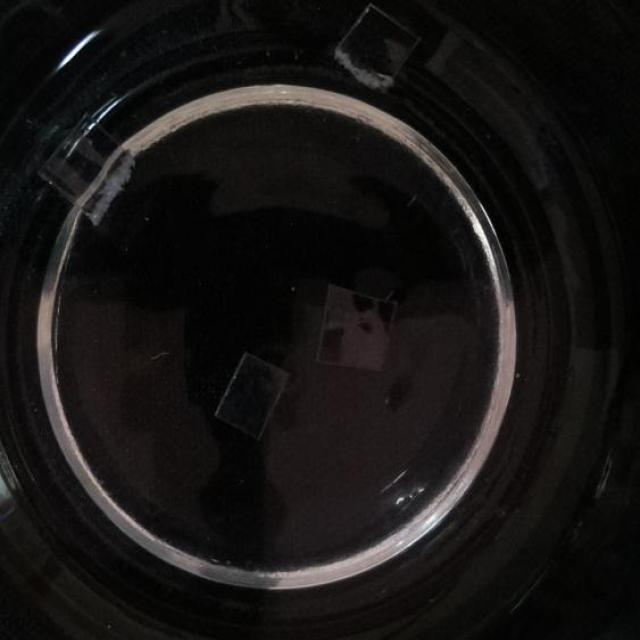fiber: (34, 107, 133, 229), (331, 0, 423, 97), (312, 282, 400, 374), (213, 347, 292, 443)
